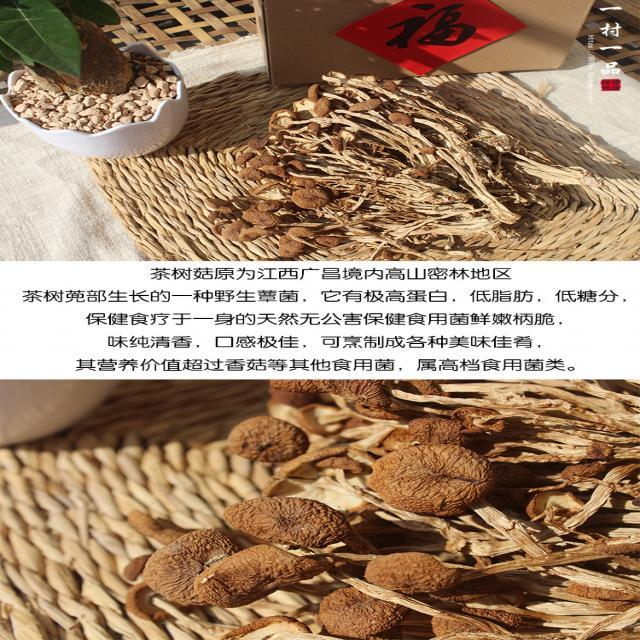Agrocybe aegerita: (161, 385, 640, 639), (225, 75, 591, 262)
